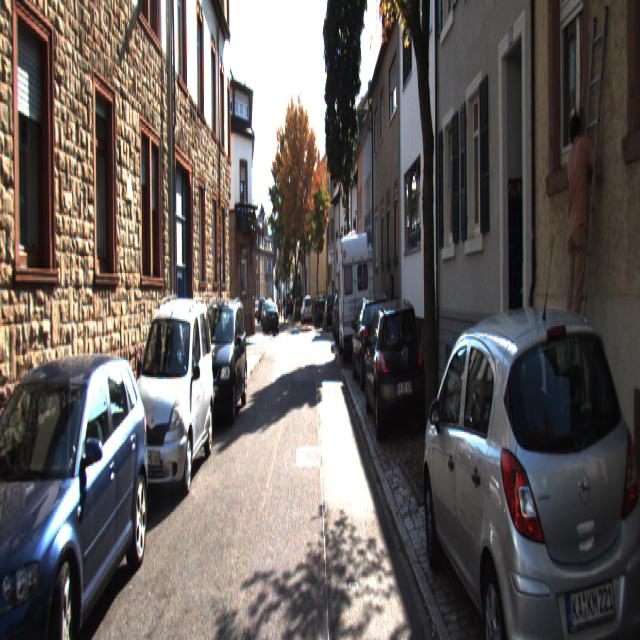Car: (418, 301, 640, 638), (0, 343, 154, 638), (121, 292, 218, 508), (363, 294, 429, 448), (194, 298, 249, 434), (336, 230, 376, 370), (349, 294, 396, 394), (312, 291, 329, 329), (322, 294, 337, 332), (265, 302, 280, 336), (300, 297, 313, 324)
